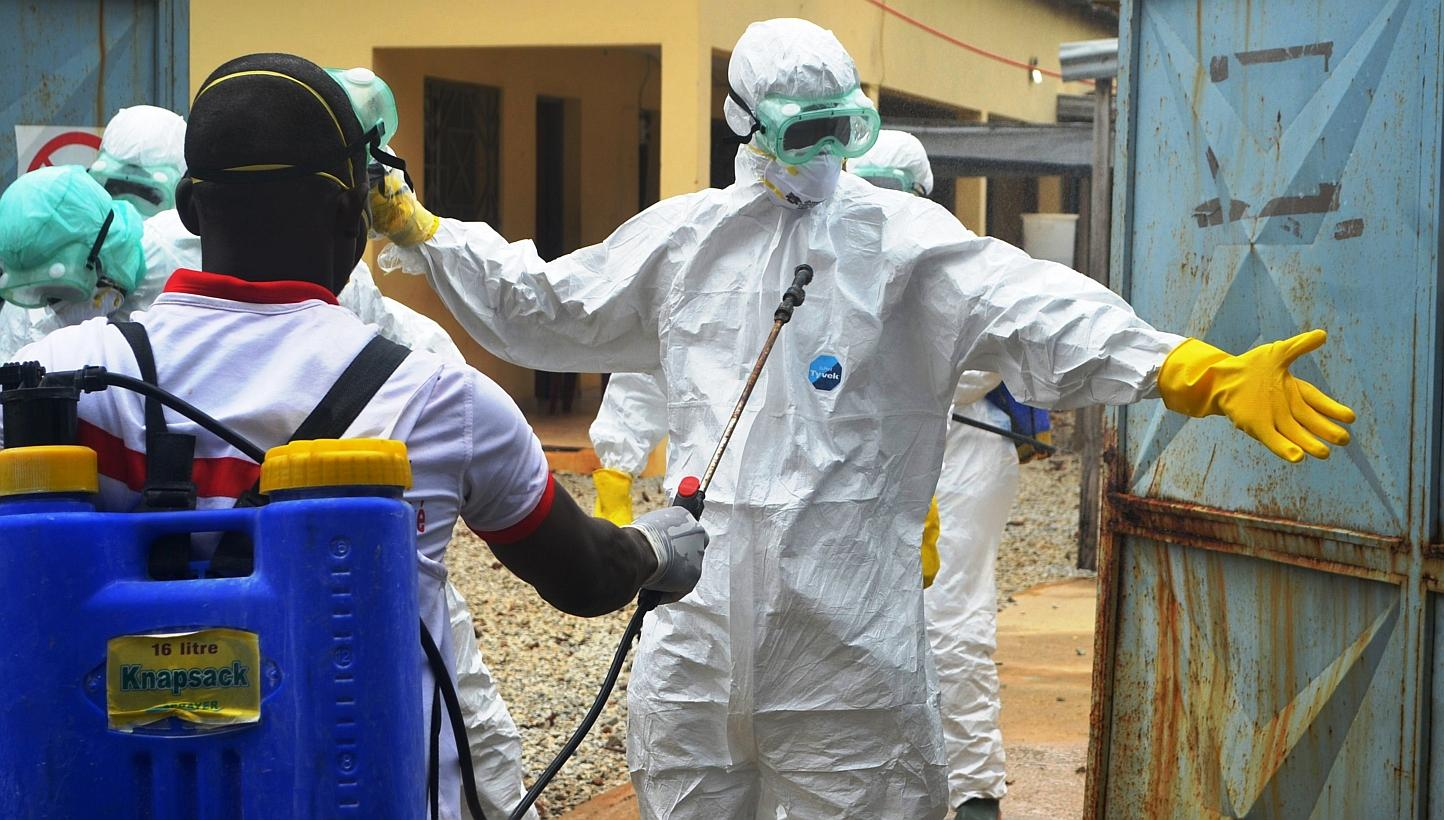Coverall: (426, 14, 1165, 820)
Gloves: (1151, 322, 1362, 482), (620, 496, 715, 610), (357, 159, 444, 246)
Goggles: (742, 83, 887, 175), (1, 238, 96, 316), (86, 150, 184, 216)
with_mask: (777, 111, 850, 215)
